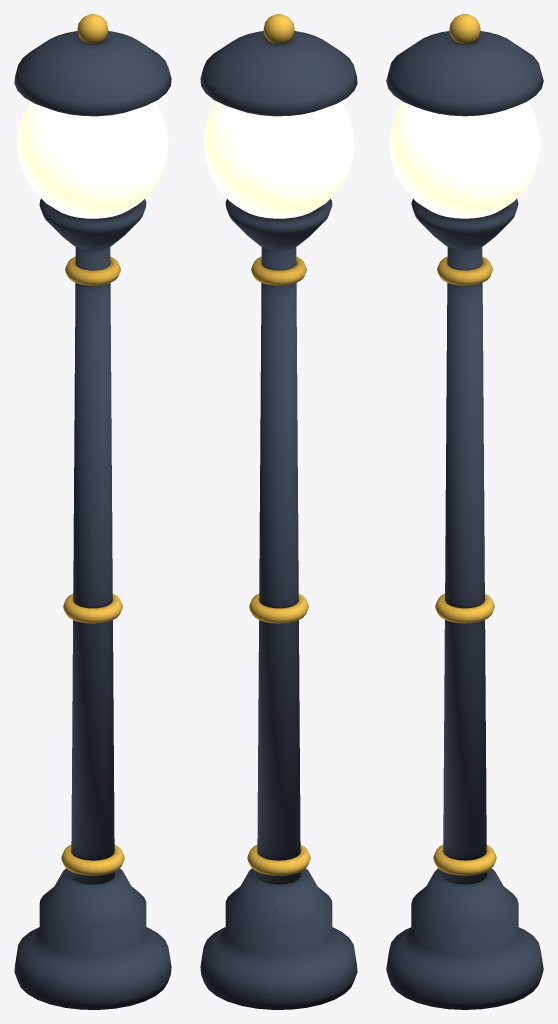
Rendered from street_lamp.glb.
3 renders of one model, left to right at view 1: azimuth 30°, elevation 25°; view 2: azimuth 150°, elevation 25°; view 3: azimuth 270°, elevation 25°, orthographic.
Parts seen in each view (by area): view 1: street_lamp; view 2: street_lamp; view 3: street_lamp.
Boxes of the visible parts, left/top/right/bottom form: street_lamp: left=14, top=14, right=171, bottom=1009; street_lamp: left=200, top=14, right=357, bottom=1009; street_lamp: left=386, top=14, right=543, bottom=1009.
Size of the model in its own units: 0.5 by 3.37 by 0.5.
3 materials, 2 textured.
